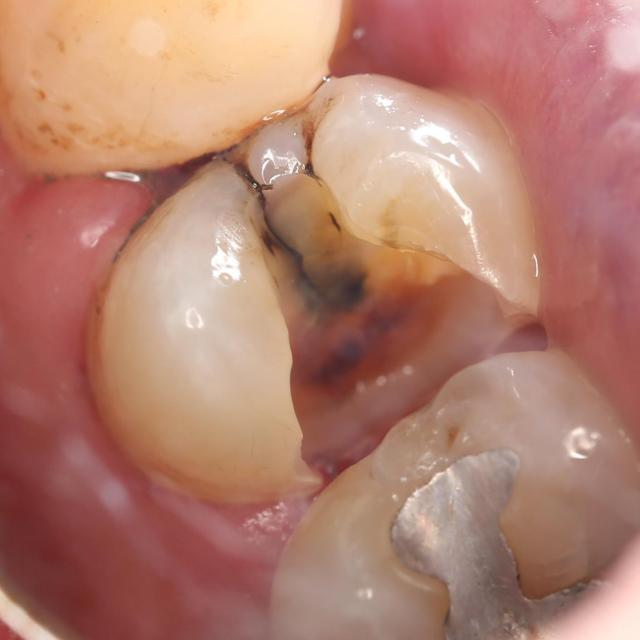caries: (91, 71, 548, 504)
